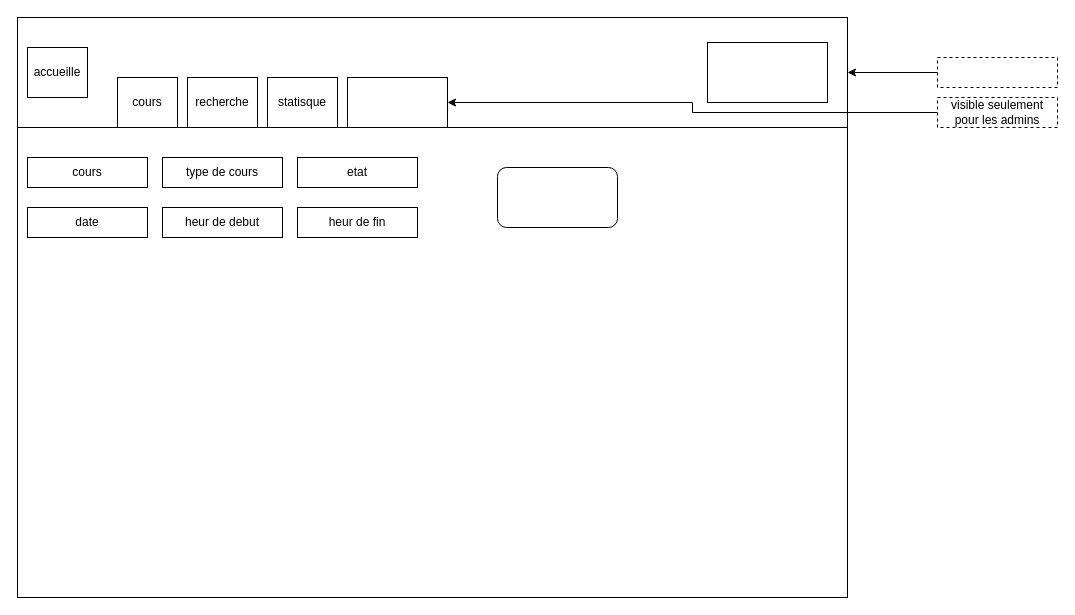
The diagram is 1075 pixels wide and 615 high, and some of its shapes have lost their labels. The centre of each missing label's shape, as x and y in pixels:
"ajout de scéance" goes at (397,102).
"ajouter" goes at (557,197).
"header" goes at (997,72).
"logo" goes at (767,72).
